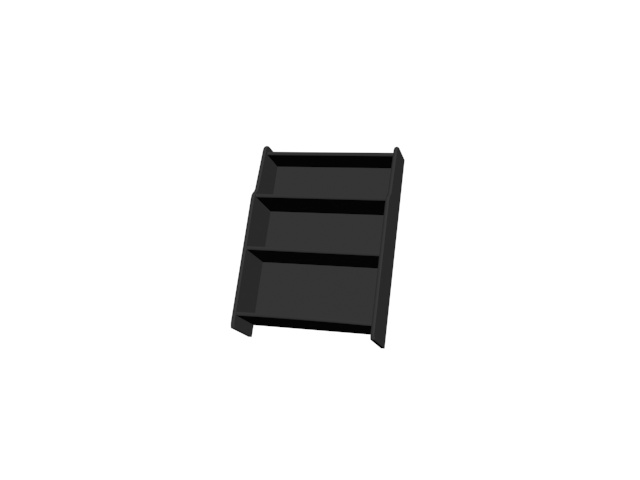bookcase: (225, 145, 408, 352)
